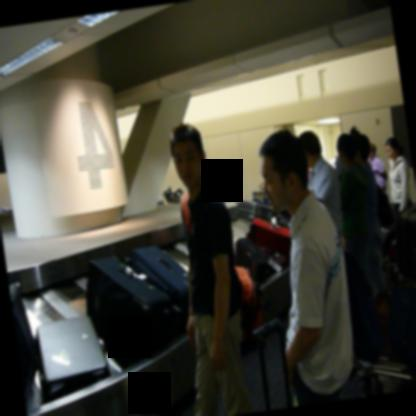suitcase: (86, 254, 172, 368), (35, 312, 110, 404), (125, 240, 189, 336), (9, 284, 34, 408), (245, 216, 291, 263), (236, 236, 275, 285), (237, 199, 256, 220)
